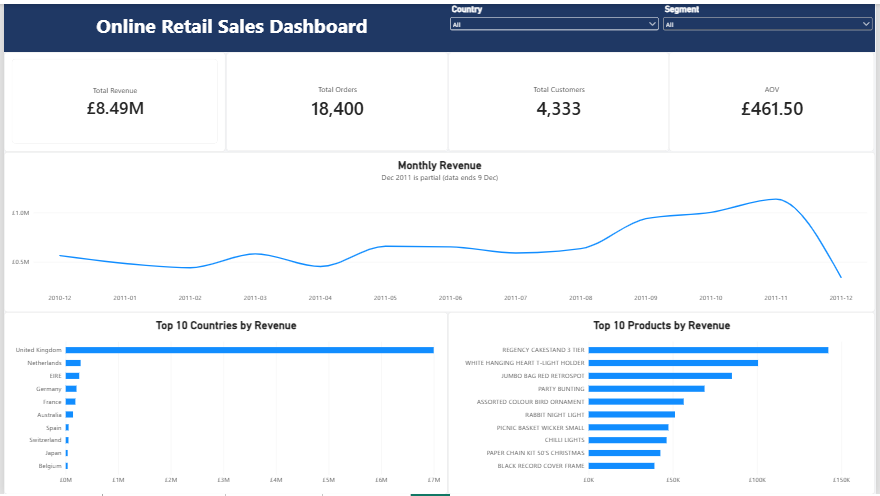

Layout of this report page (visuals, bound fields, positions):
{"tool":"powerbi","page":{"name":"Sales Overview","canvas":[1920,1080],"ordinal":0},"visuals":[{"type":"shape","box":[0,0,1919.8,105.8],"z":0},{"type":"textbox","box":[26.4,18,952.2,105.8],"z":1000},{"type":"cardVisual","fields":{"Data":["fact_sales.Total Revenue"]},"box":[0,105.9,488.2,219.6],"z":2000},{"type":"lineChart","title":"Monthly Revenue","fields":{"Category":["dim_date.Year-Month"],"Y":["fact_sales.Total Revenue"]},"box":[0,325.5,1919.6,352.9],"z":3000},{"type":"cardVisual","fields":{"Data":["fact_sales.Total Orders"]},"box":[488.2,105.9,490.2,219.6],"z":4000},{"type":"cardVisual","fields":{"Data":["fact_sales.Total Customers"]},"box":[978.4,105.9,488.2,219.6],"z":5000},{"type":"cardVisual","fields":{"Data":["fact_sales.AOV"]},"box":[1466.7,105.9,452.9,219.6],"z":6000},{"type":"clusteredBarChart","title":"Top 10 Countries by Revenue","fields":{"Category":["dim_customer.country"],"Y":["fact_sales.Total Revenue"]},"box":[0,678.4,978.4,402],"z":7000},{"type":"clusteredBarChart","title":"Top 10 Products by Revenue","fields":{"Category":["dim_product.product"],"Y":["fact_sales.Total Revenue"]},"box":[978.4,678.4,941.2,402],"z":8000},{"type":"slicer","fields":{"Values":["dim_customer.country"]},"box":[978.4,0,469,105.9],"z":9000},{"type":"slicer","fields":{"Values":["dim_customer.segment"]},"box":[1449,0,470.6,105.9],"z":10000}]}

Visuals, with their boxes in screenshot pixels (x1, y1, x2, y2), scaled from the page's 1920x1080 canvas onto the 880x496 screenshot:
shape: [x1=0, y1=0, x2=879, y2=49]
textbox: [x1=12, y1=8, x2=449, y2=57]
cardVisual - fact_sales.Total Revenue: [x1=0, y1=49, x2=224, y2=149]
"Monthly Revenue" lineChart: [x1=0, y1=149, x2=879, y2=312]
cardVisual - fact_sales.Total Orders: [x1=224, y1=49, x2=448, y2=149]
cardVisual - fact_sales.Total Customers: [x1=448, y1=49, x2=672, y2=149]
cardVisual - fact_sales.AOV: [x1=672, y1=49, x2=879, y2=149]
"Top 10 Countries by Revenue" clusteredBarChart: [x1=0, y1=312, x2=448, y2=495]
"Top 10 Products by Revenue" clusteredBarChart: [x1=448, y1=312, x2=879, y2=495]
slicer - dim_customer.country: [x1=448, y1=0, x2=663, y2=49]
slicer - dim_customer.segment: [x1=664, y1=0, x2=879, y2=49]
